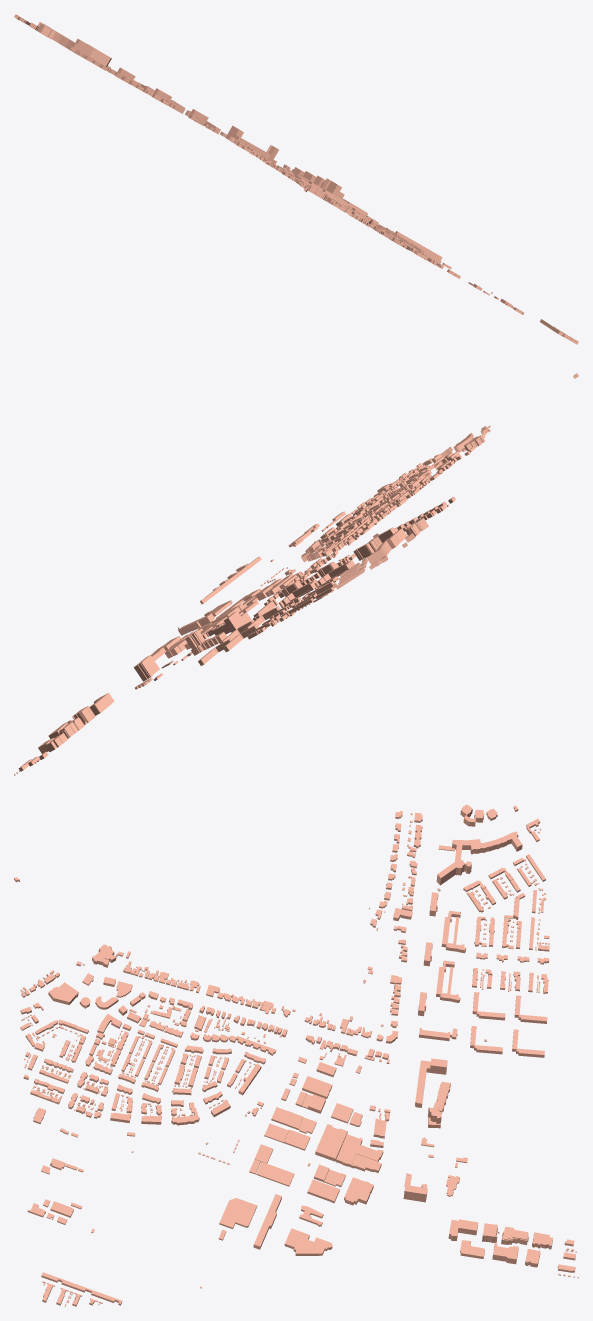
3 views of the same model, one above another, from view 1: azimuth 30°, elevation 25°; view 2: azimuth 150°, elevation 25°; view 3: azimuth 270°, elevation 25° (orthographic). The views are drawn at different scales.
Bounding box in the file's own units: 1052 × 761 × 1261.
